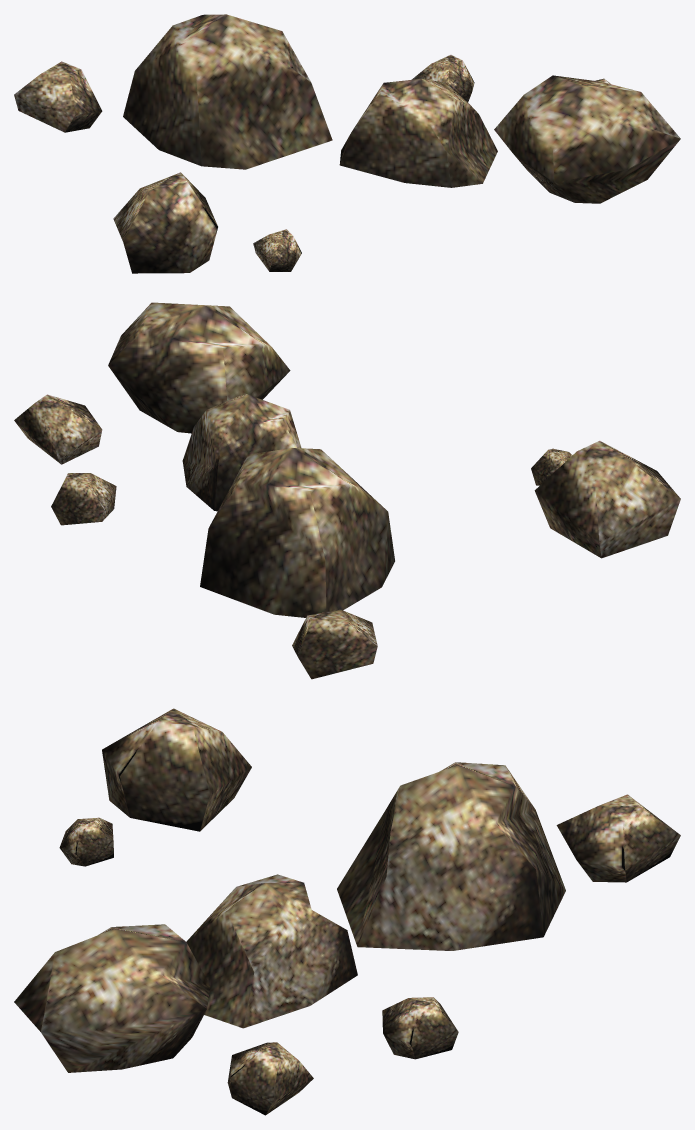
File: rock_015.obj
The picture shows the model from 3 angles, top to bottom: view 1: azimuth 30°, elevation 25°; view 2: azimuth 150°, elevation 25°; view 3: azimuth 270°, elevation 25°; orthographic projection. The views are drawn at different scales.
Parts seen in each view (by area): view 1: rock_015; view 2: rock_015; view 3: rock_015.
Part boxes in pixels (<box>): rock_015: <box>14,14,680,273</box>; rock_015: <box>14,302,680,679</box>; rock_015: <box>14,708,680,1115</box>.
Size of the model in its own units: 190 by 43.68 by 158.
Materials: 1 (1 with a texture image).
